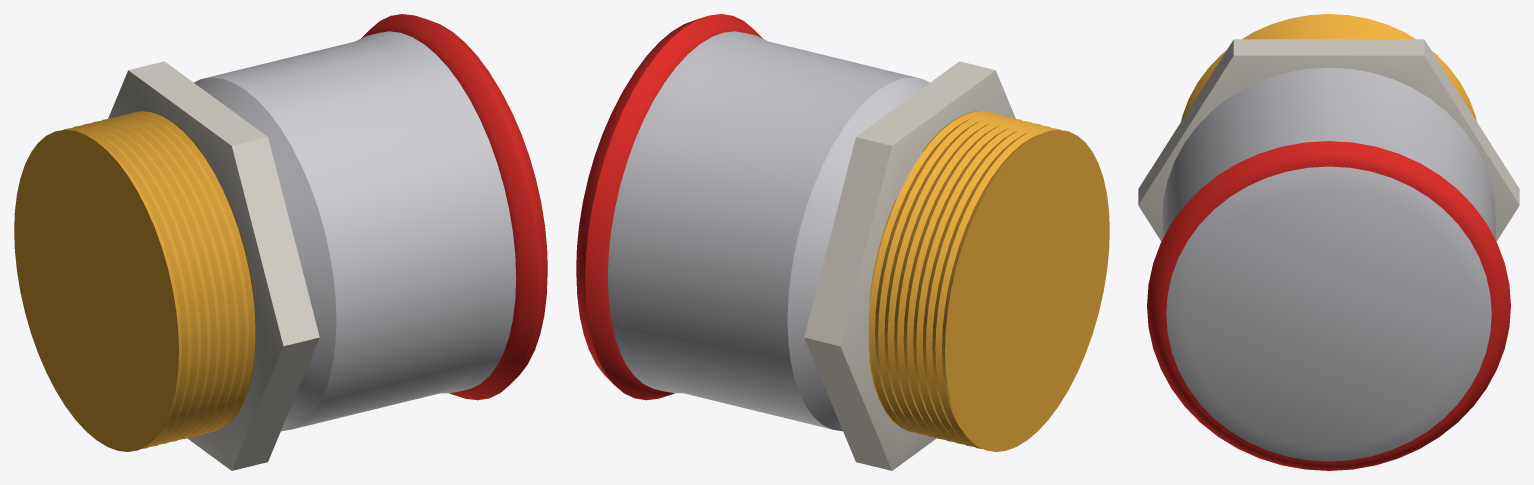
File: fitting_adp_42x112_M_r.glb
3 renders of one model, left to right at view 1: azimuth 30°, elevation 25°; view 2: azimuth 150°, elevation 25°; view 3: azimuth 270°, elevation 25°, orthographic. The views are drawn at different scales.
Visible parts, largest first — view 1: раструб, резьба НР, шестигранник переходника, кольцо пресс; view 2: раструб, резьба НР, шестигранник переходника, кольцо пресс; view 3: раструб, кольцо пресс, шестигранник переходника, резьба НР.
Part boxes in pixels (box(x1,y1,x2,y2)): раструб: box(194, 31, 516, 431); резьба НР: box(14, 111, 255, 451); шестигранник переходника: box(108, 61, 319, 470); кольцо пресс: box(361, 14, 547, 400); раструб: box(607, 31, 929, 431); резьба НР: box(868, 111, 1109, 451); шестигранник переходника: box(804, 61, 1015, 470); кольцо пресс: box(576, 14, 762, 400); раструб: box(1162, 67, 1495, 461); кольцо пресс: box(1147, 141, 1510, 470); шестигранник переходника: box(1138, 39, 1519, 241); резьба НР: box(1181, 14, 1476, 121).
Bounding box in the file's own units: 0.062 × 0.0573 × 0.06.
